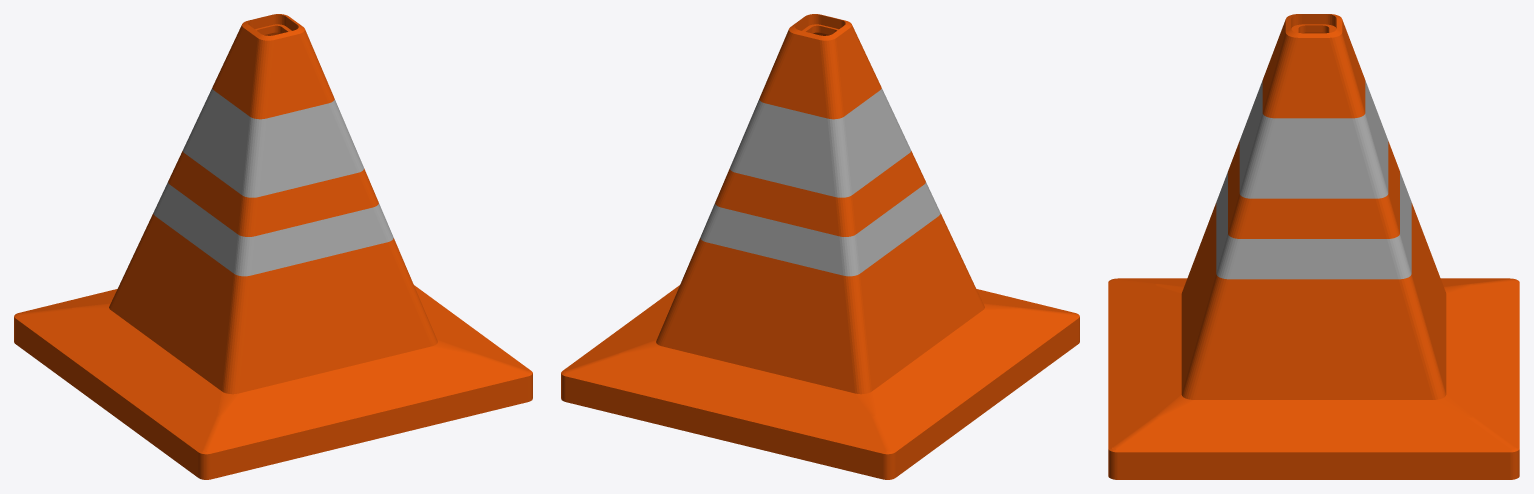
3 views of the same model, side by side, from view 1: azimuth 30°, elevation 25°; view 2: azimuth 150°, elevation 25°; view 3: azimuth 270°, elevation 25° (orthographic). The views are drawn at different scales.
Parts seen in each view (by area): view 1: Cube; view 2: Cube; view 3: Cube.
Boxes of the visible parts, x1,y1,x2,y2 form: Cube: [14, 14, 532, 479]; Cube: [561, 14, 1079, 479]; Cube: [1108, 14, 1519, 479].
Bounding box in the file's own units: 1 × 0.9901 × 1.
